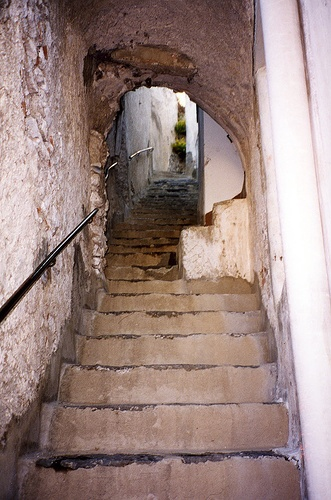stairs_up: (91, 178, 268, 500)
